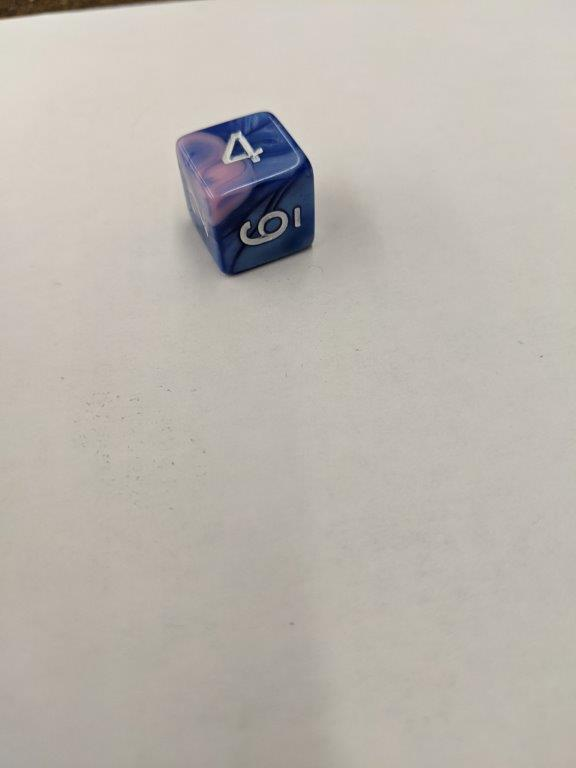d6-4: (176, 110, 318, 277)
